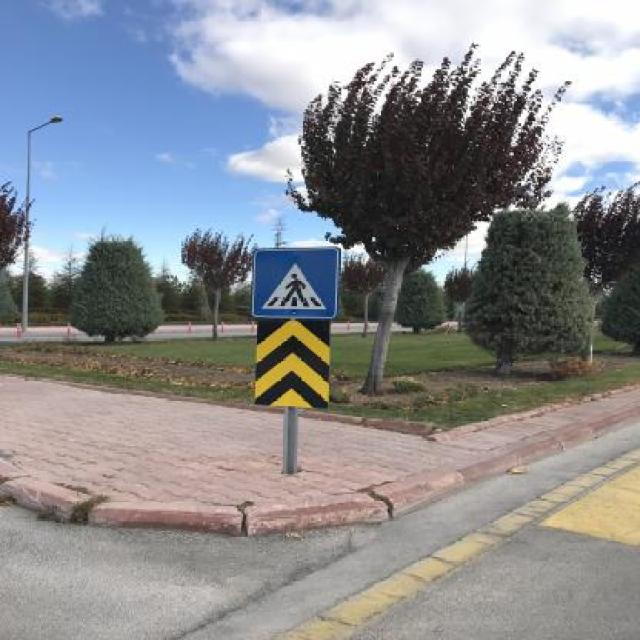yaya: (254, 248, 337, 317)
